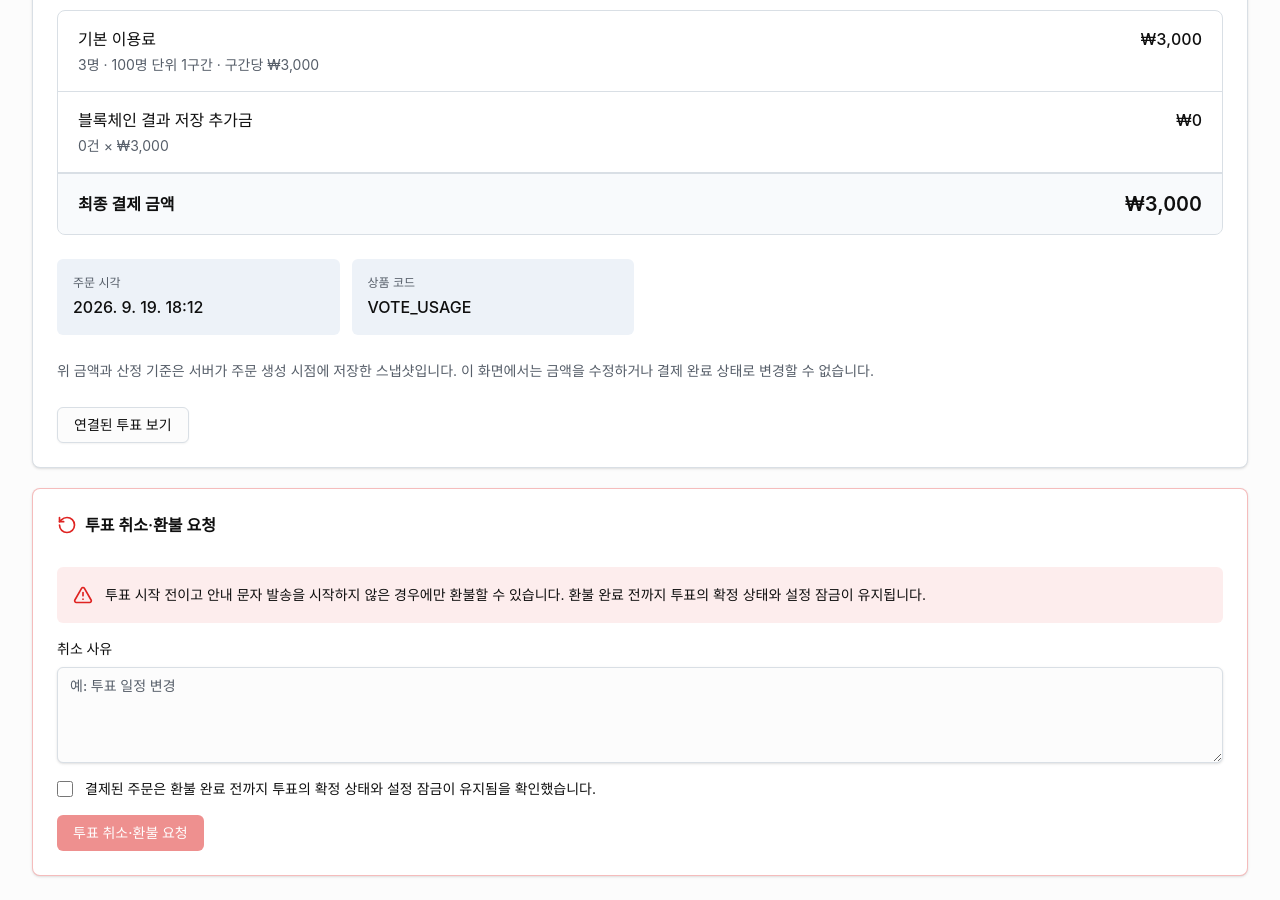
it: billing order UI › polls a refund request until the server reports refund complete
(page scrolled)
In the text box labelled "취소 사유": (640, 715) left=57, top=667, right=1223, bottom=763, type "투표 일정 변경"
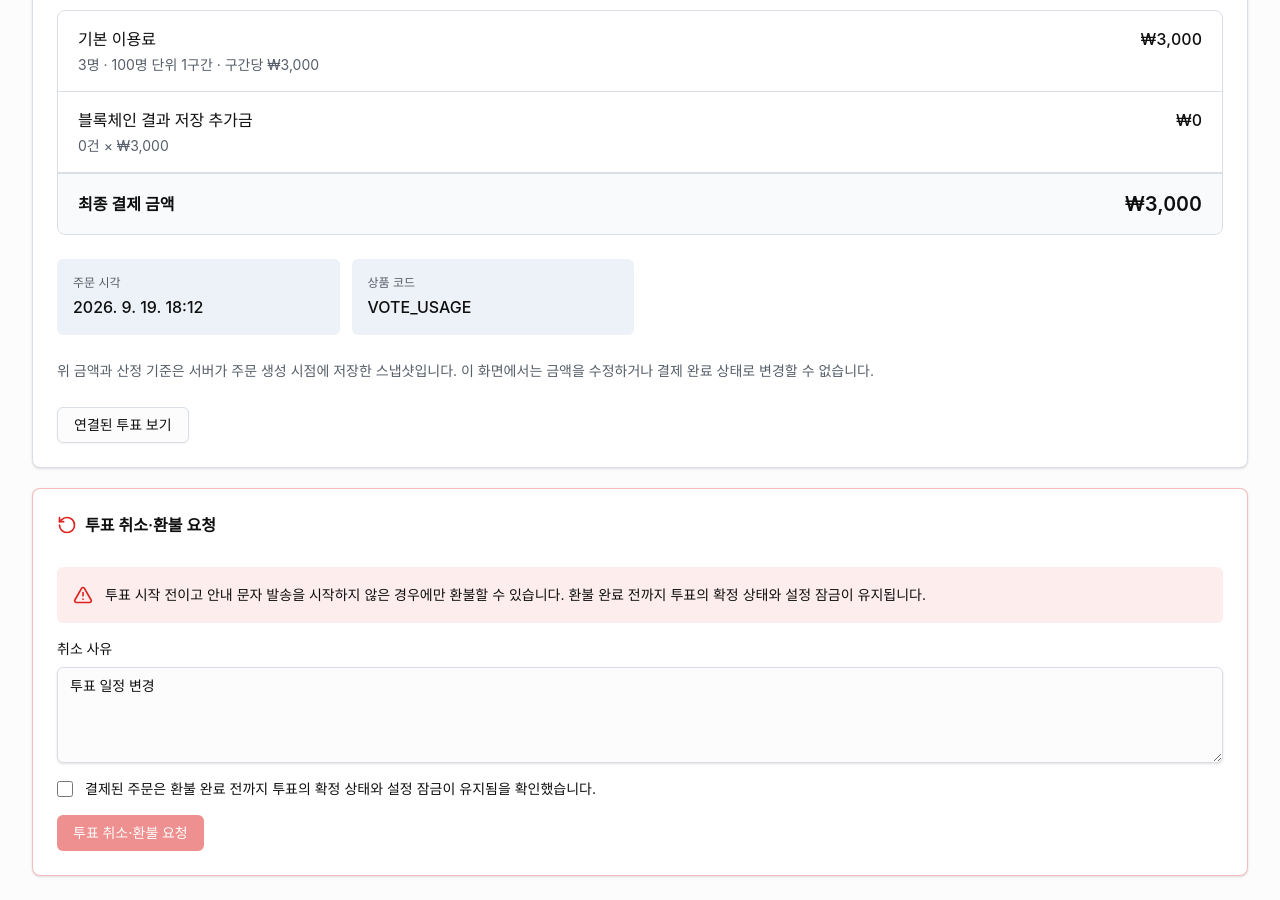
Click the text "결제된 주문은 환불 완료 전까지 투표의 확정 상태와 설정 잠금이 유지됨을 확인했습니다.": click(340, 789) left=85, top=779, right=596, bottom=799
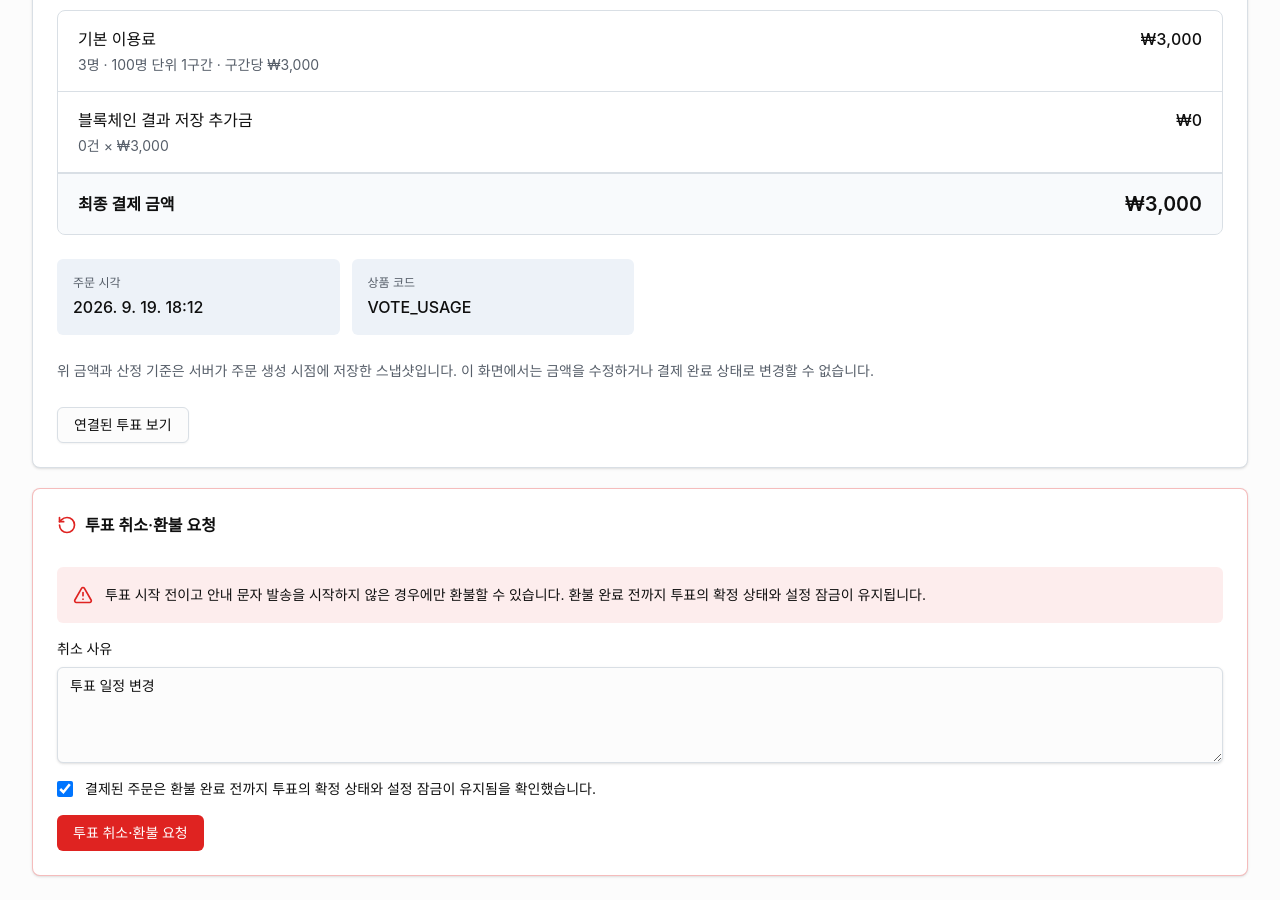
Click the button "투표 취소·환불 요청": click(130, 833) left=57, top=815, right=204, bottom=851
(page scrolled)
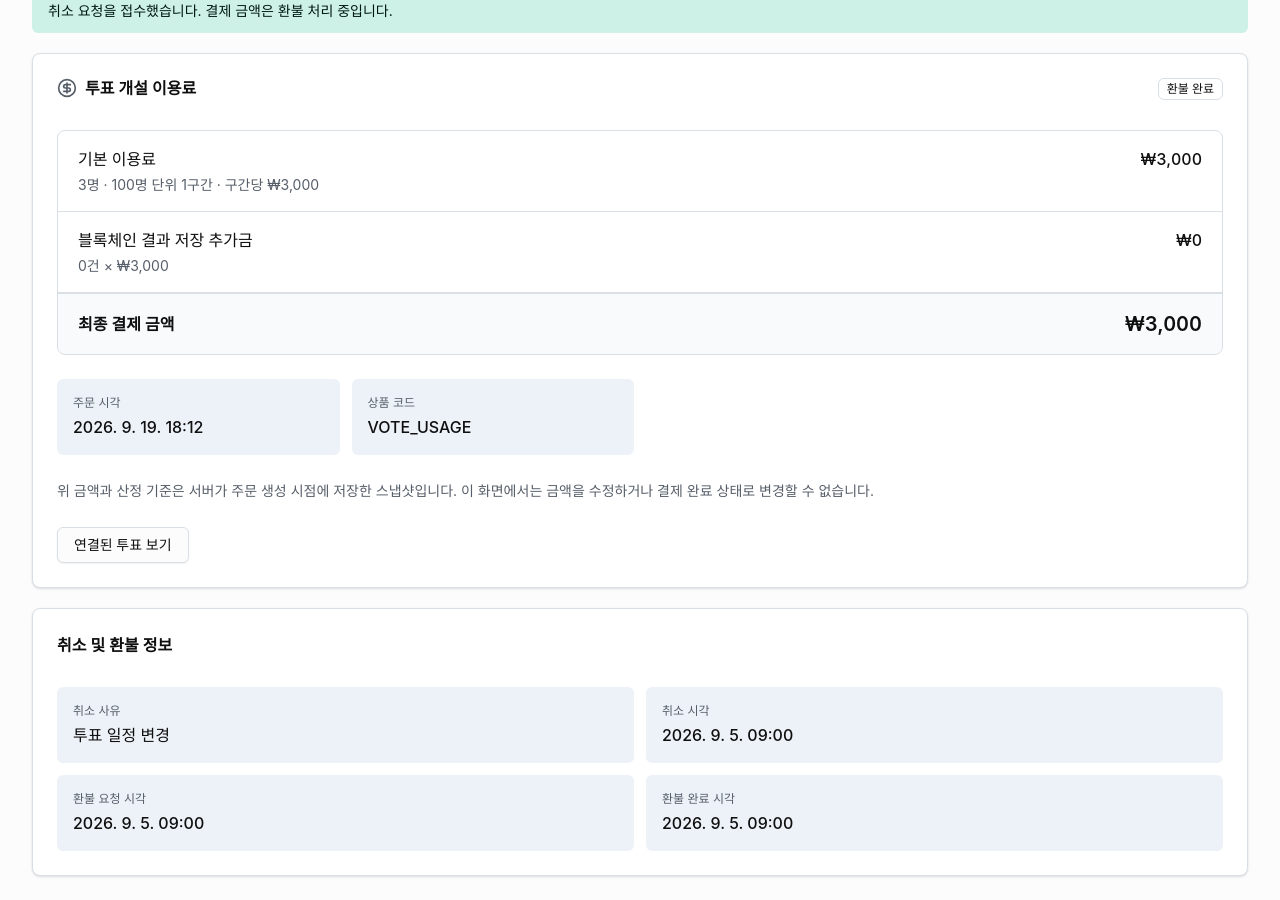
Check: the text "환불 완료" is shown, box left=1158, top=78, right=1223, bottom=100
